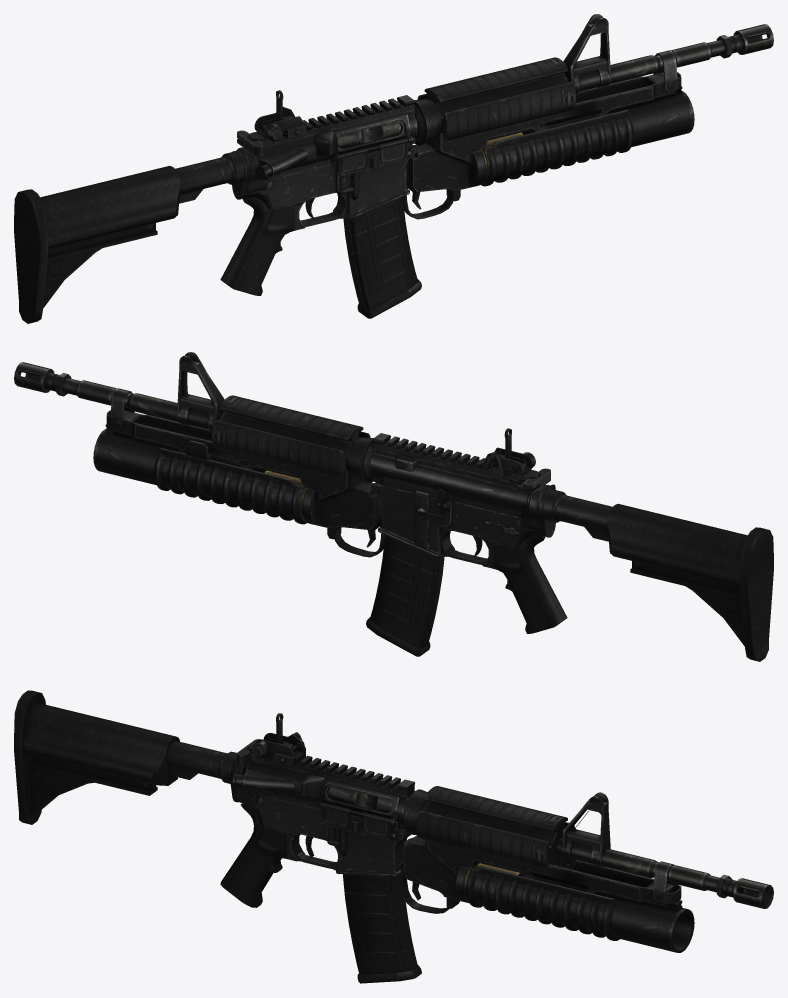
The model's file is M4M203 gun.fbx.
3 renders of one model, top to bottom at view 1: azimuth 30°, elevation 25°; view 2: azimuth 150°, elevation 25°; view 3: azimuth 330°, elevation 25°, orthographic.
Parts seen in each view (by area): view 1: M4M203_Trip; view 2: M4M203_Trip; view 3: M4M203_Trip.
Part boxes in pixels (bbox=[...]): M4M203_Trip: bbox=[14, 14, 773, 323]; M4M203_Trip: bbox=[14, 352, 773, 661]; M4M203_Trip: bbox=[14, 690, 773, 983].
Size of the model in its own units: 46.69 by 14.73 by 3.44.
